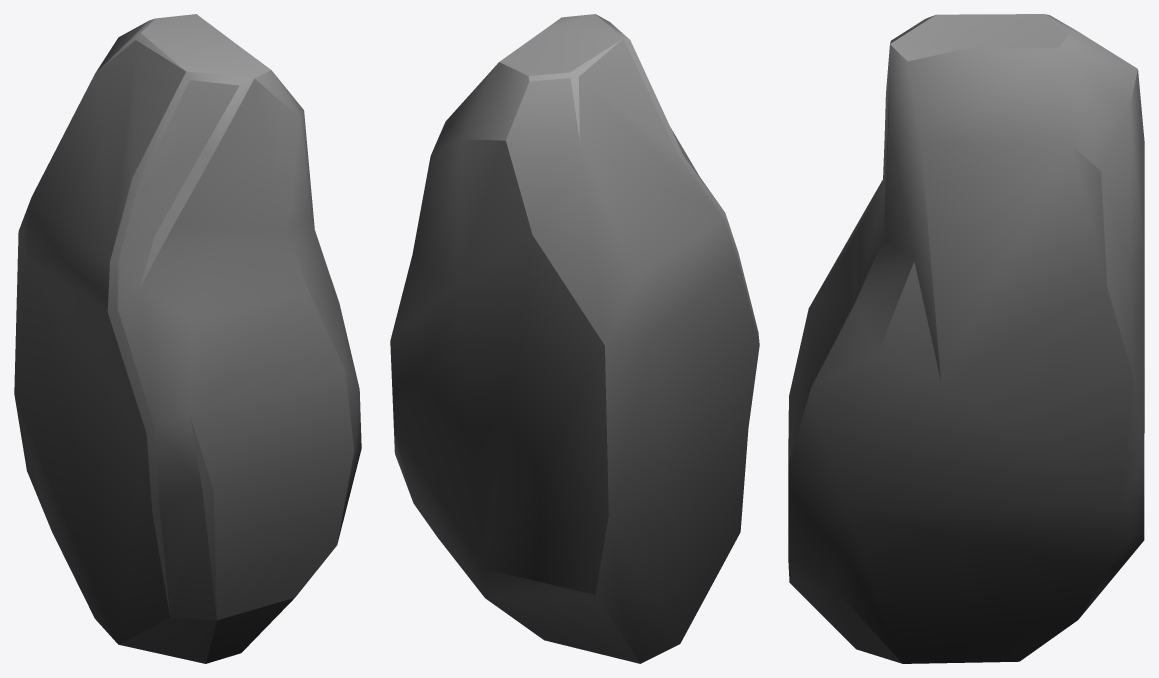
The model's file is rocks_002.glb.
3 views of the same model, side by side, from view 1: azimuth 30°, elevation 25°; view 2: azimuth 150°, elevation 25°; view 3: azimuth 270°, elevation 25° (orthographic). The views are drawn at different scales.
Visible parts, largest first — view 1: rocks.002; view 2: rocks.002; view 3: rocks.002.
Part boxes in pixels (left/top/right/bottom): rocks.002: left=14, top=14, right=361, bottom=663; rocks.002: left=390, top=14, right=759, bottom=663; rocks.002: left=788, top=14, right=1144, bottom=663.
Bounding box in the file's own units: 0.4218 × 0.982 × 0.5038.
1 material, 1 textured.
